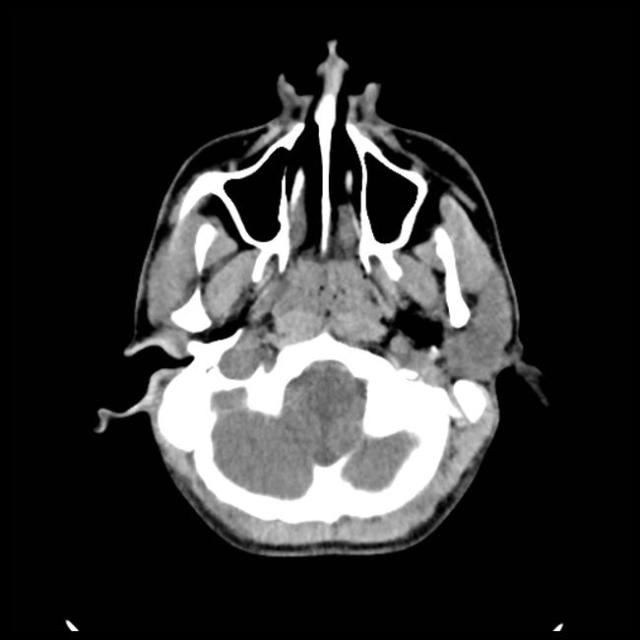lesion: (91, 36, 548, 562)
